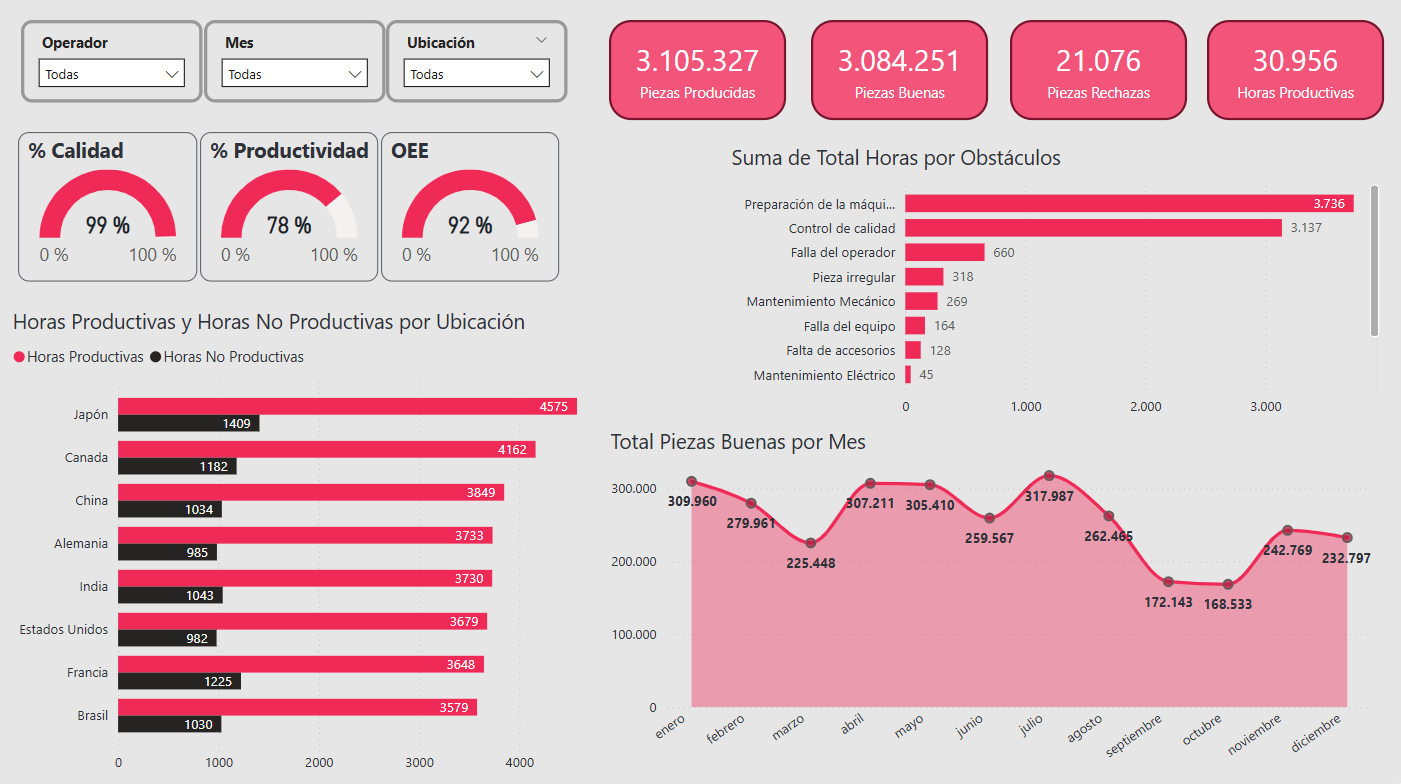

The page's visual inventory and layout, read from the dashboard file:
{"tool":"powerbi","page":{"name":"Página 1","canvas":[1280,720],"ordinal":0},"visuals":[{"type":"card","fields":{"Values":["Producción.Total Piezas Producidas"]},"box":[742.8,26.2,161.3,90.7],"z":0},{"type":"card","fields":{"Values":["Producción.Total Piezas Rechazas"]},"box":[923.2,26.2,161.3,90.7],"z":1000},{"type":"card","fields":{"Values":["Producción.Total Piezas Producidas"]},"box":[559.4,26.2,161.3,90.7],"z":2000},{"type":"card","fields":{"Values":["Producción.Horas Productivas"]},"box":[1102.6,26.2,161.3,90.7],"z":3000},{"type":"clusteredBarChart","fields":{"Category":["Producción.Ubicación"],"Y":["Producción.Horas Productivas","Producción.Horas No Productivas"]},"box":[12.1,287.6,536.2,432.4],"z":4000},{"type":"barChart","fields":{"Category":["Producción.Obstáculos"],"Y":["Sum(Producción.Total Horas)"]},"box":[665.2,138.1,598.7,258],"z":5000},{"type":"areaChart","fields":{"Category":["Producción.Fecha inicio.Variación.Jerarquía de fechas.Mes"],"Y":["Producción.Total Piezas Buenas"]},"box":[555.3,396.1,701.5,323.5],"z":6000},{"type":"slicer","fields":{"Values":["Producción.Operador"]},"box":[24.2,26.2,165.3,74.6],"z":7000},{"type":"slicer","fields":{"Values":["Producción.Fecha inicio.Variación.Jerarquía de fechas.Mes"]},"box":[190.5,26.2,165.3,74.6],"z":8000},{"type":"gauge","fields":{"Y":["Producción.% Calidad"]},"box":[22.2,128,163.3,136.1],"z":9000},{"type":"gauge","fields":{"Y":["Producción.% Productividad"]},"box":[187.5,128,162.3,136.1],"z":10000},{"type":"gauge","fields":{"Y":["Producción.OEE"]},"box":[351.7,128,162.3,136.1],"z":11000},{"type":"slicer","fields":{"Values":["Producción.Ubicación"]},"box":[356.8,26.2,165.3,74.6],"z":12000}]}

Visuals, with their boxes in screenshot pixels (x1, y1, x2, y2), scaled from the page's 1280x720 canvas onto the 1401x784 screenshot:
card - Producción.Total Piezas Producidas: (left=813, top=29, right=990, bottom=127)
card - Producción.Total Piezas Rechazas: (left=1010, top=29, right=1187, bottom=127)
card - Producción.Total Piezas Producidas: (left=612, top=29, right=789, bottom=127)
card - Producción.Horas Productivas: (left=1207, top=29, right=1383, bottom=127)
clusteredBarChart - Producción.Ubicación x Producción.Horas Productivas: (left=13, top=313, right=600, bottom=783)
barChart - Producción.Obstáculos x Sum(Producción.Total Horas): (left=728, top=150, right=1383, bottom=431)
areaChart - Producción.Fecha inicio.Variación.Jerarquía de fechas.Mes x Producción.Total Piezas Buenas: (left=608, top=431, right=1376, bottom=783)
slicer - Producción.Operador: (left=26, top=29, right=207, bottom=110)
slicer - Producción.Fecha inicio.Variación.Jerarquía de fechas.Mes: (left=209, top=29, right=389, bottom=110)
gauge - Producción.% Calidad: (left=24, top=139, right=203, bottom=288)
gauge - Producción.% Productividad: (left=205, top=139, right=383, bottom=288)
gauge - Producción.OEE: (left=385, top=139, right=563, bottom=288)
slicer - Producción.Ubicación: (left=391, top=29, right=571, bottom=110)
